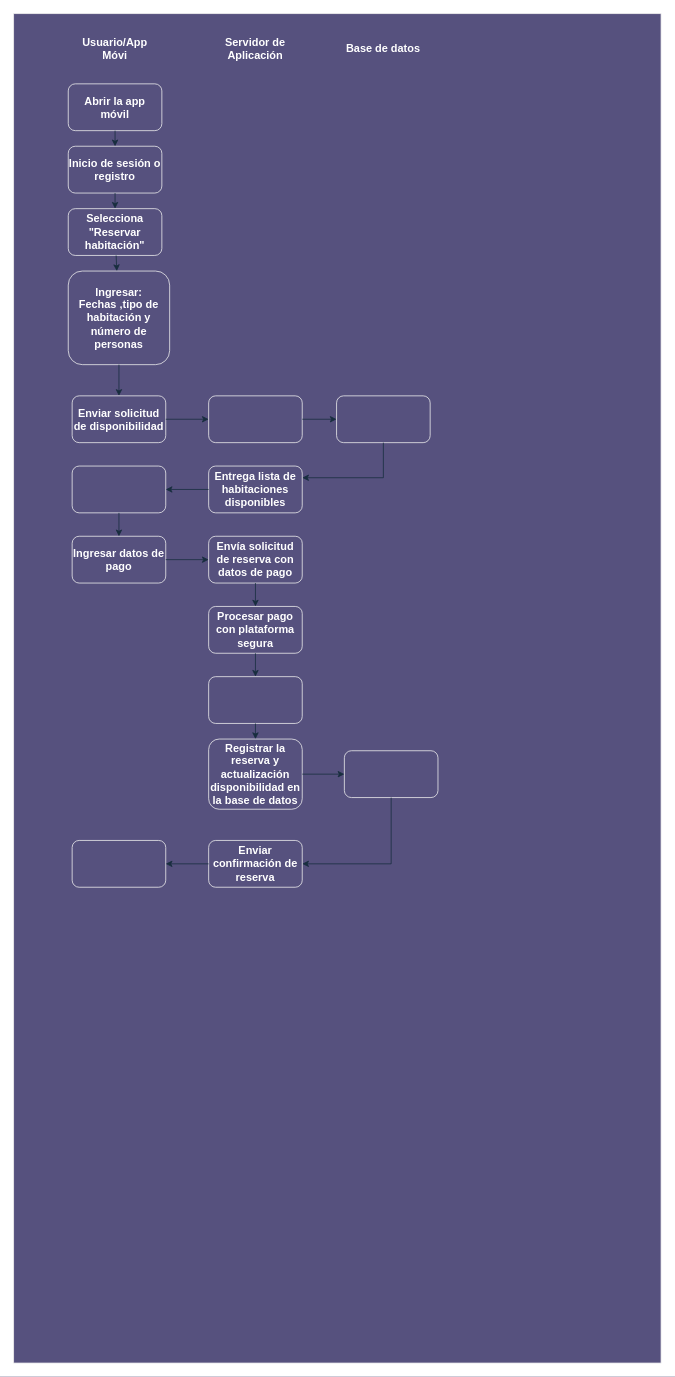
Image size: 675x1377. Some labels were removed from this diagram. The centre of each missing label's shape, as x and y in pixels:
Confirmación pago exitoso: point 255,699
Confirmar actualizaciones: point 391,774
Consulta habitaciones disponibles: point 255,419
Devuelve resultados: point 383,419
Elegir habitación: point 118,489
Mensaje "Reserva confirmada": point 118,863
